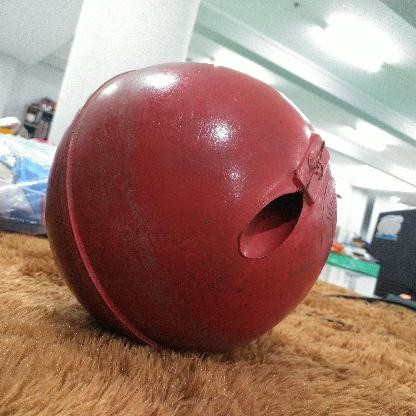red_buoy: (42, 58, 340, 360)
